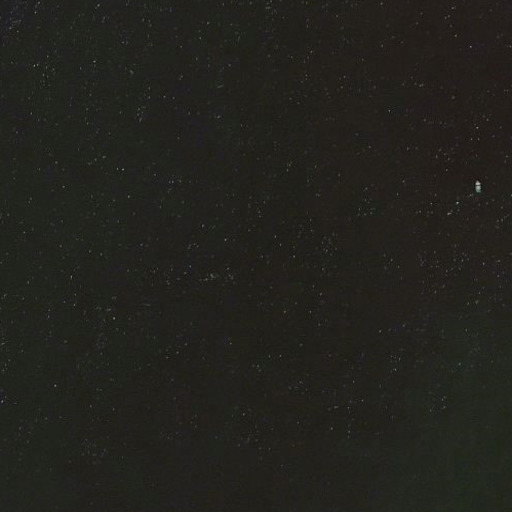ship: (472, 177, 484, 195)
